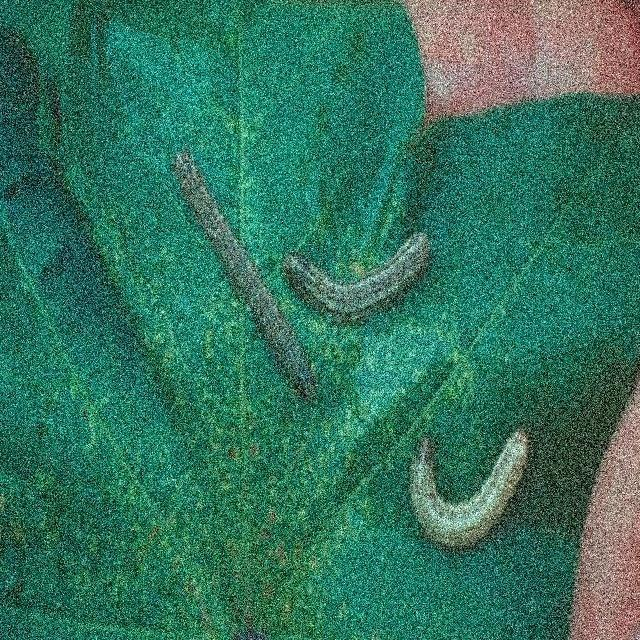gusano_cogollero: (176, 163, 318, 395), (412, 426, 528, 544), (290, 230, 428, 317)
